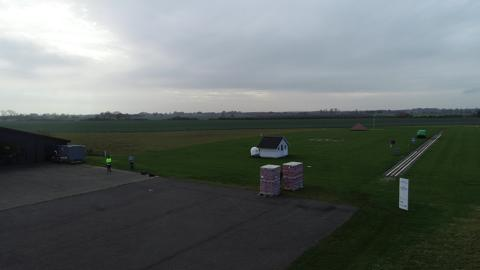RockwoolPallet: (282, 160, 303, 190)
